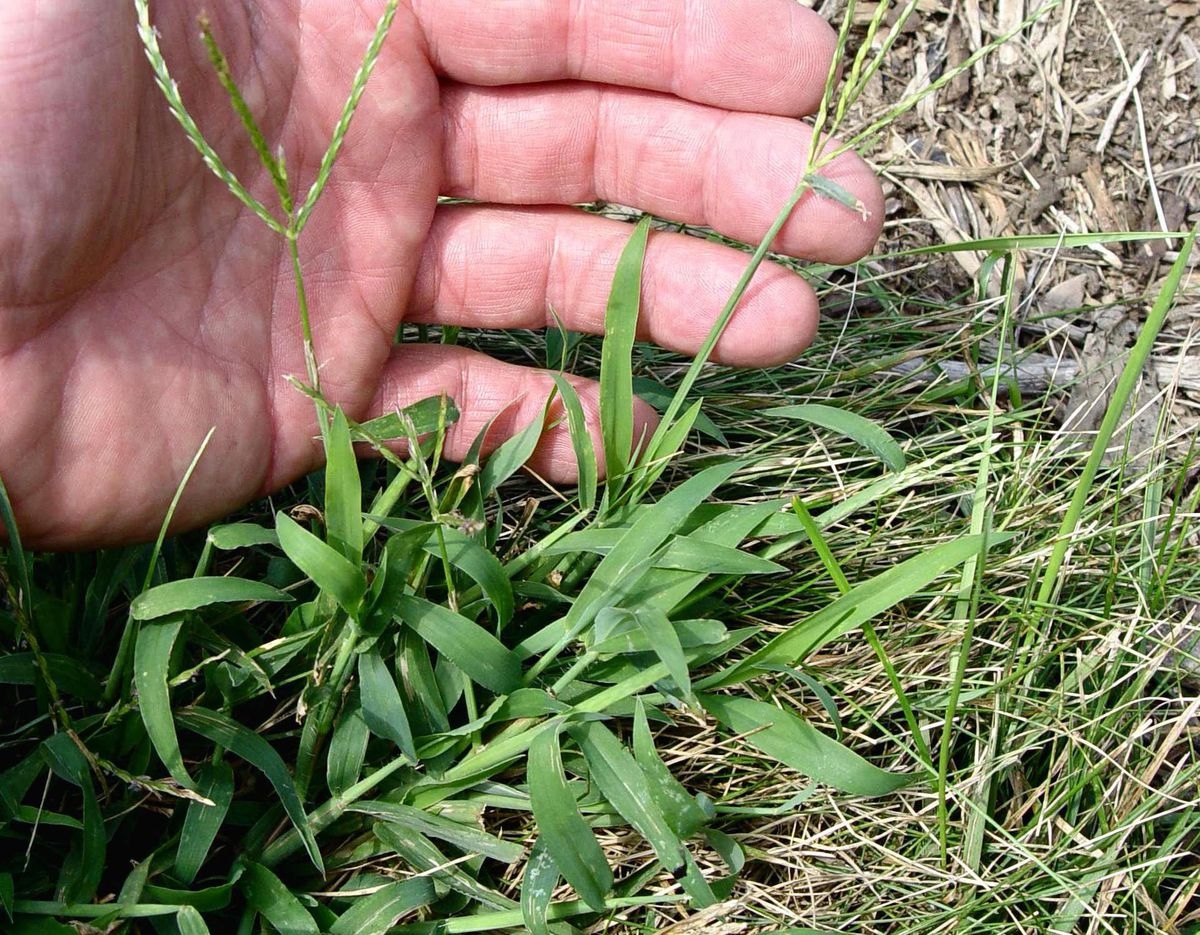crabgrass: (20, 514, 744, 935)
